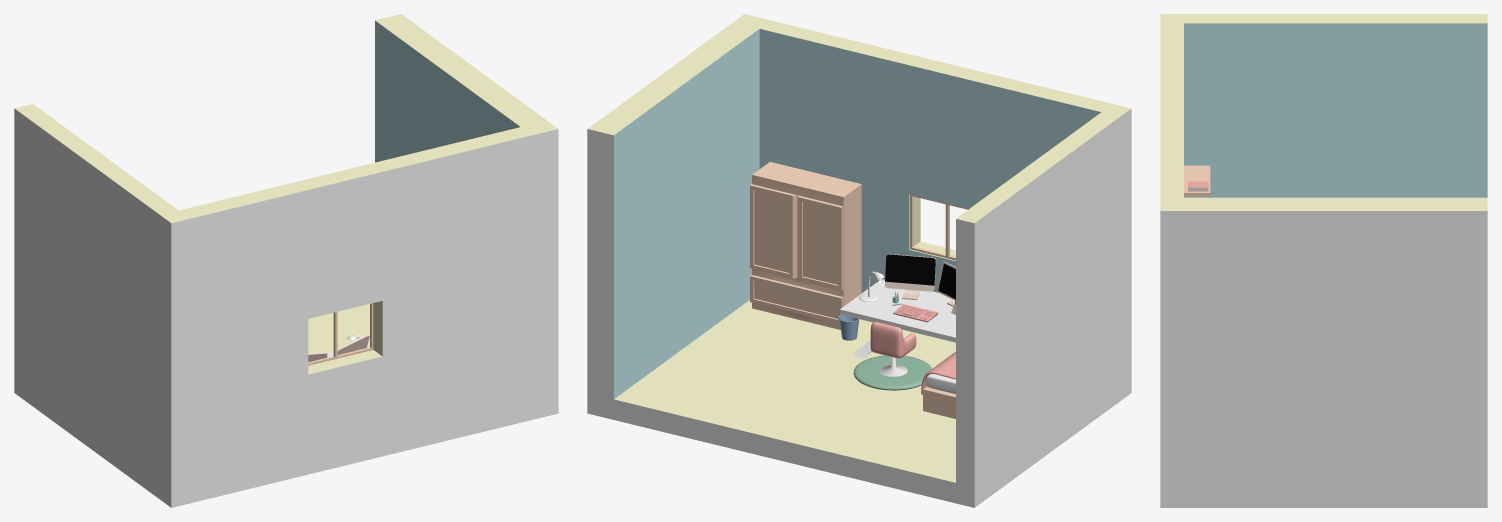
Rendered from Study_Room_23.glb.
3 renders of one model, left to right at view 1: azimuth 30°, elevation 25°; view 2: azimuth 150°, elevation 25°; view 3: azimuth 270°, elevation 25°, orthographic. The views are drawn at different scales.
Visible parts, largest first — view 1: Room, Window Frame; view 2: Room, Closet, Table Top, Rug, Desktop Screen, Chair, Bedframe, Window Frame; view 3: Room, Shelf.001.
Part boxes in pixels (x1,y1,x2,y2): Room: (14,14,558,507); Window Frame: (308,303,373,365); Room: (587,14,1131,507); Closet: (750,162,861,329); Table Top: (840,279,955,342); Rug: (853,355,931,390); Desktop Screen: (885,254,935,285); Chair: (870,322,916,358); Bedframe: (923,386,955,418); Window Frame: (910,194,968,260); Room: (1160,14,1487,507); Shelf.001: (1184,165,1210,196).
Size of the model in its own units: 27.72 by 19.48 by 19.48.
Materials: 27 (2 with a texture image).
